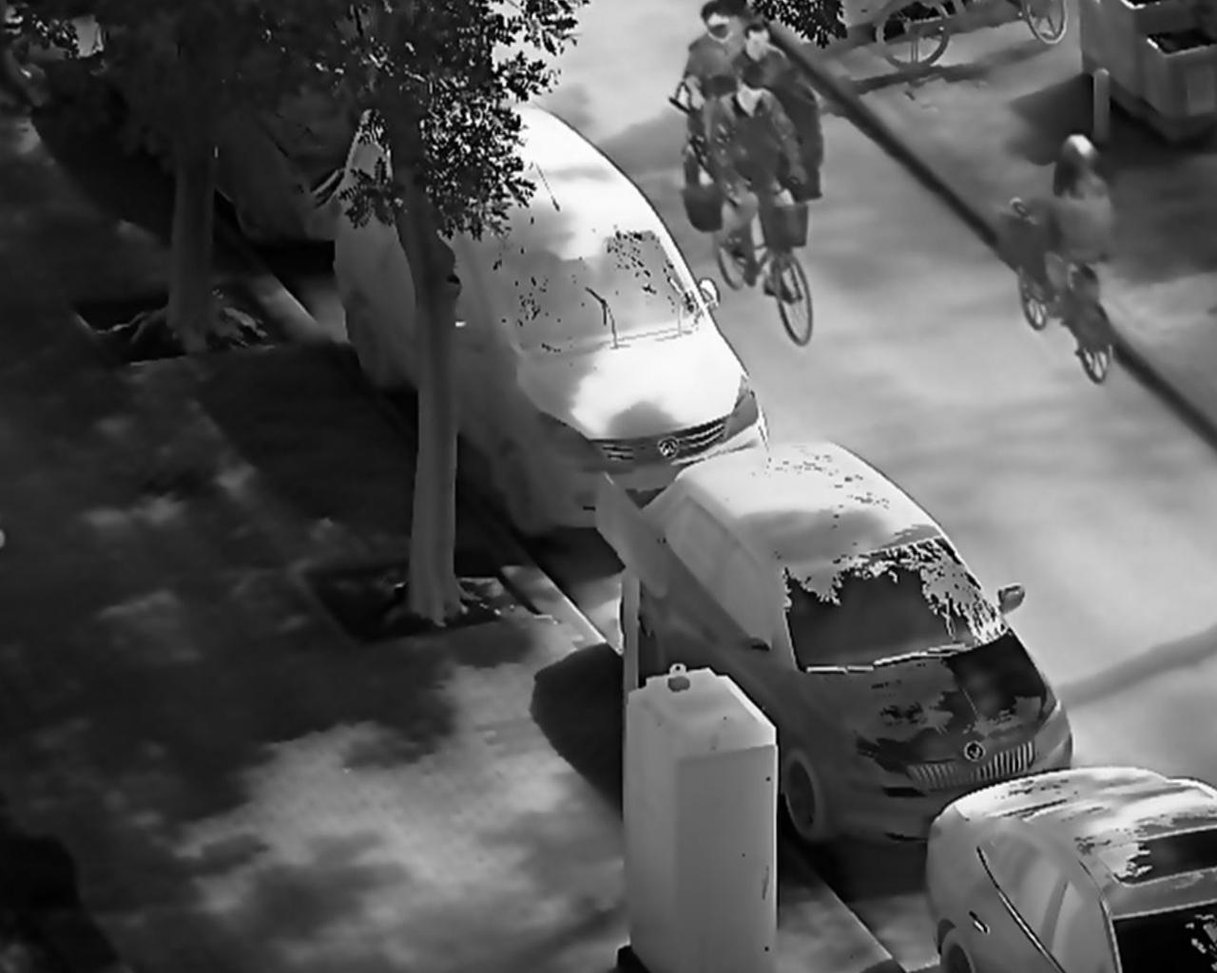person: (698, 64, 817, 306), (1006, 125, 1119, 325)
